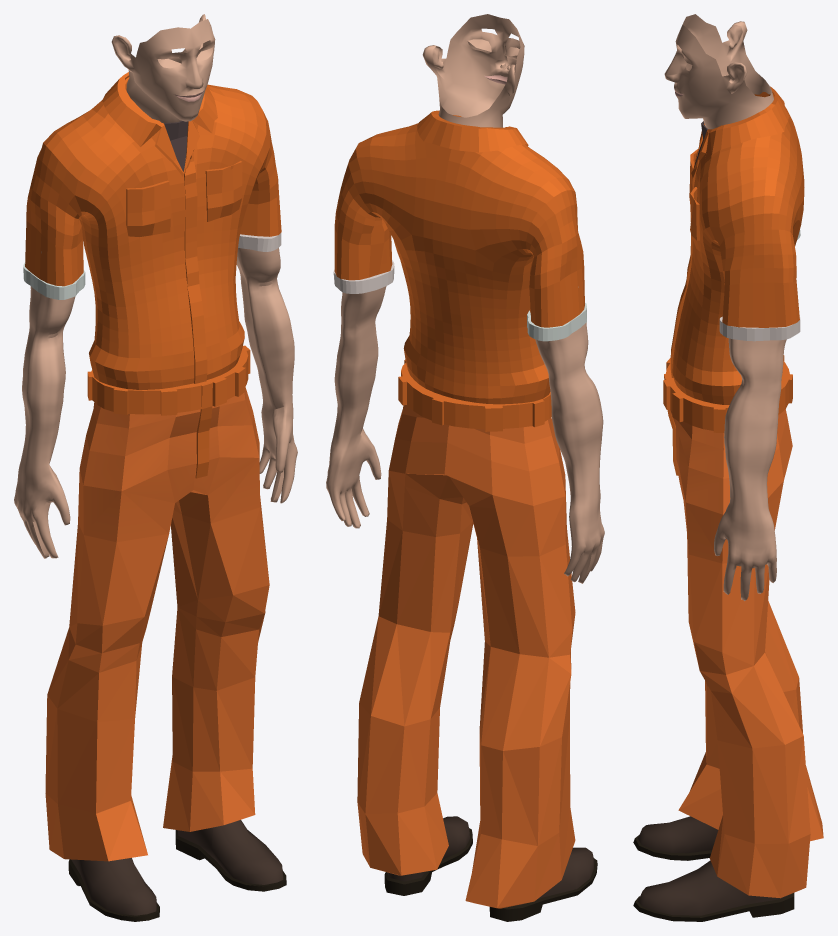
Rendered from Outfit_0.fbx.
3 views of the same model, side by side, from view 1: azimuth 30°, elevation 25°; view 2: azimuth 150°, elevation 25°; view 3: azimuth 270°, elevation 25° (orthographic).
Parts seen in each view (by area): view 1: Штаны.009; view 2: Штаны.009; view 3: Штаны.009.
Boxes of the visible parts, x1=… form: Штаны.009: x1=14, y1=14, x2=297, y2=921; Штаны.009: x1=326, y1=14, x2=604, y2=921; Штаны.009: x1=633, y1=14, x2=823, y2=921.
Size of the model in its own units: 55.54 by 171 by 34.27.
